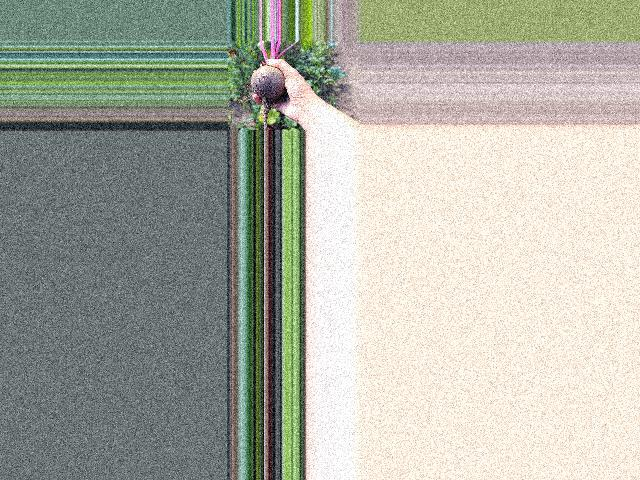beet: (236, 40, 299, 131)
